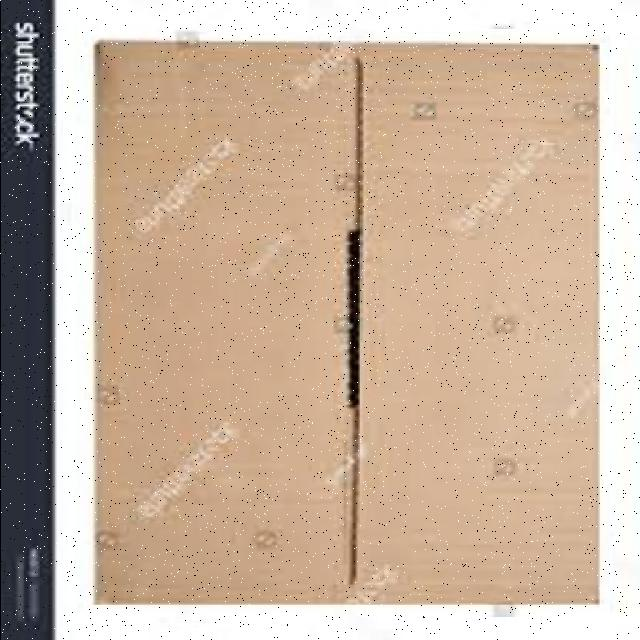defect: (83, 29, 609, 617)
